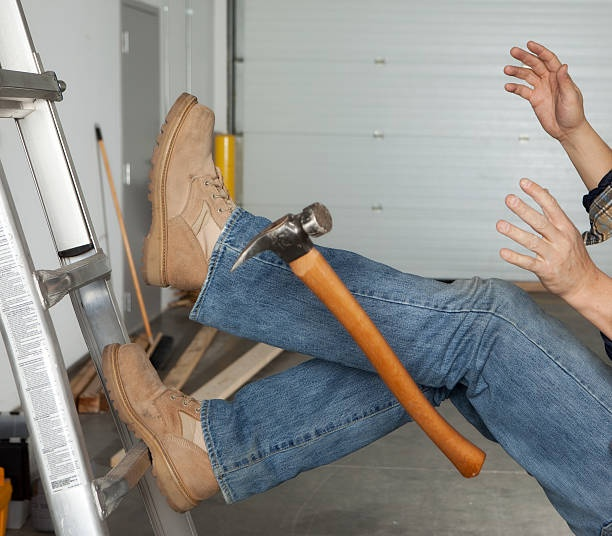hammer: (230, 201, 489, 481)
